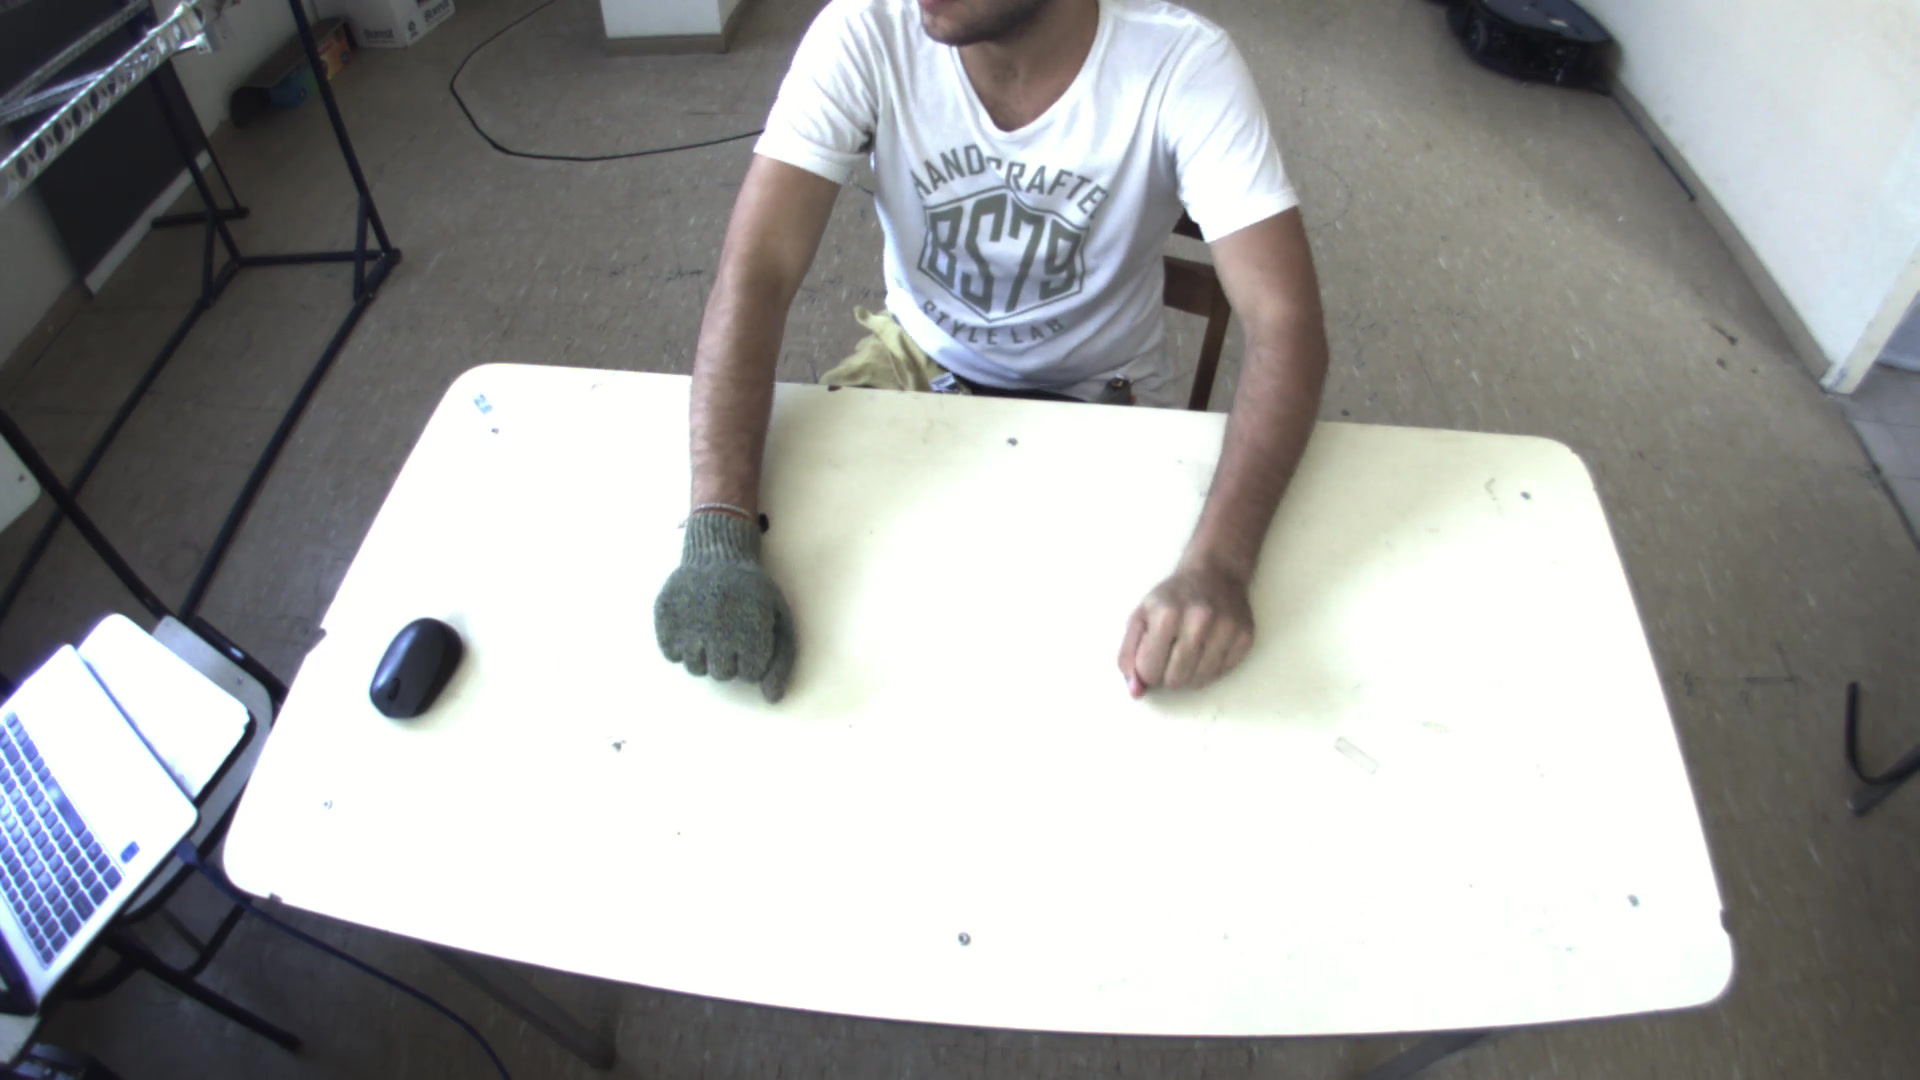hand: (640, 493, 798, 694), (1106, 543, 1279, 688)
